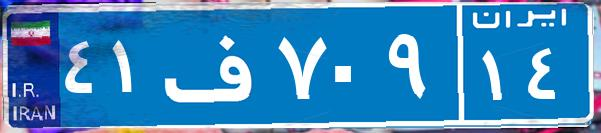0: (330, 28, 385, 110)
1: (475, 38, 525, 113), (110, 28, 158, 105)
4: (57, 26, 110, 107), (525, 38, 570, 115)
7: (273, 28, 330, 110)
9: (385, 28, 445, 110)
ف: (158, 15, 273, 115)
